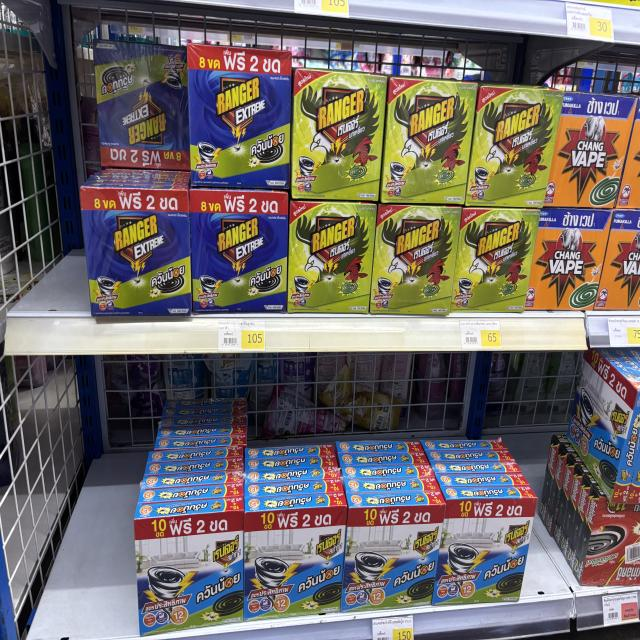empty_shelf: (141, 354, 536, 516), (22, 372, 143, 635), (7, 32, 85, 311), (80, 36, 187, 186), (524, 359, 578, 598)
